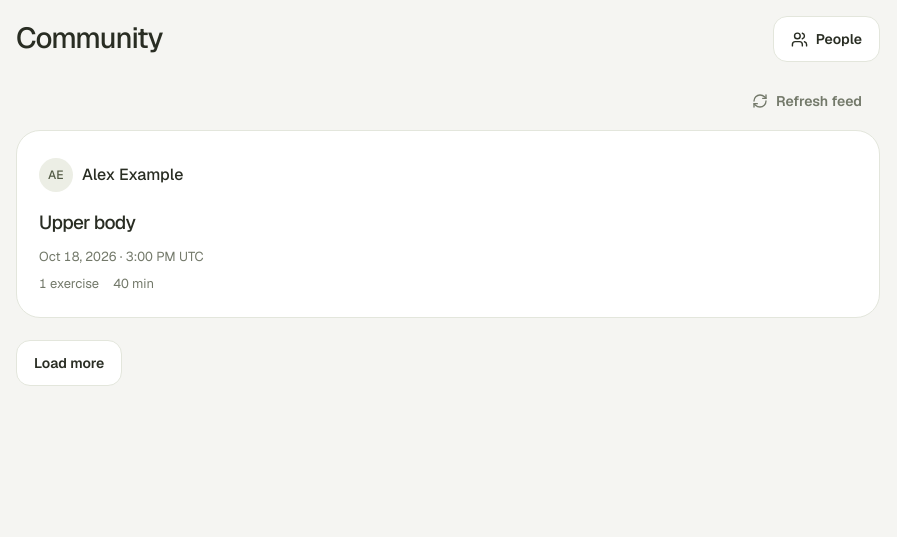
Test case: CommunityScreen › revalidates every loaded feed page when returning from a profile
The width and height of the screenshot is (897, 537).
expect the heading "Upper body" is shown: met, box [39,210,135,235]
Click the button "Load more": (69, 363) [16,340,122,386]
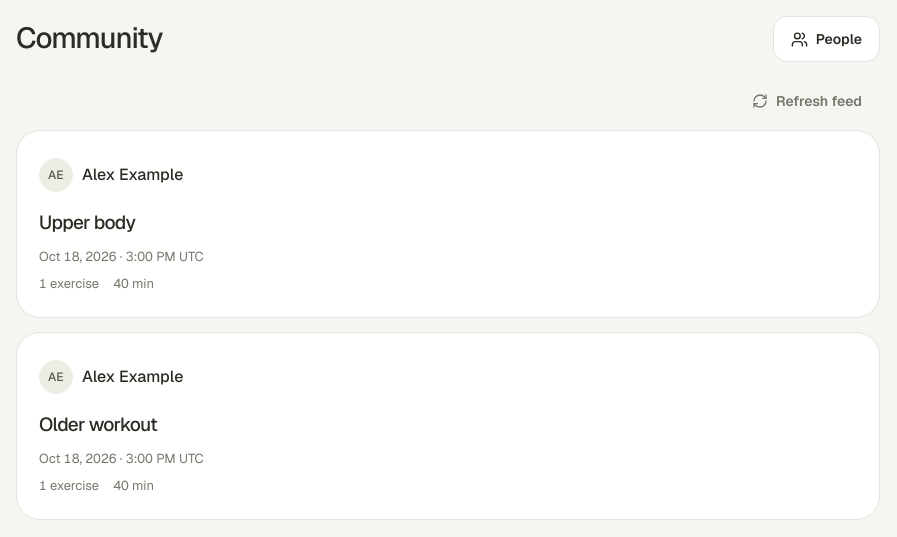
expect the heading "Older workout" is shown: met, box [39,412,157,437]
Click the 1st button "AE Alex Example": (111, 175) [39,153,183,197]
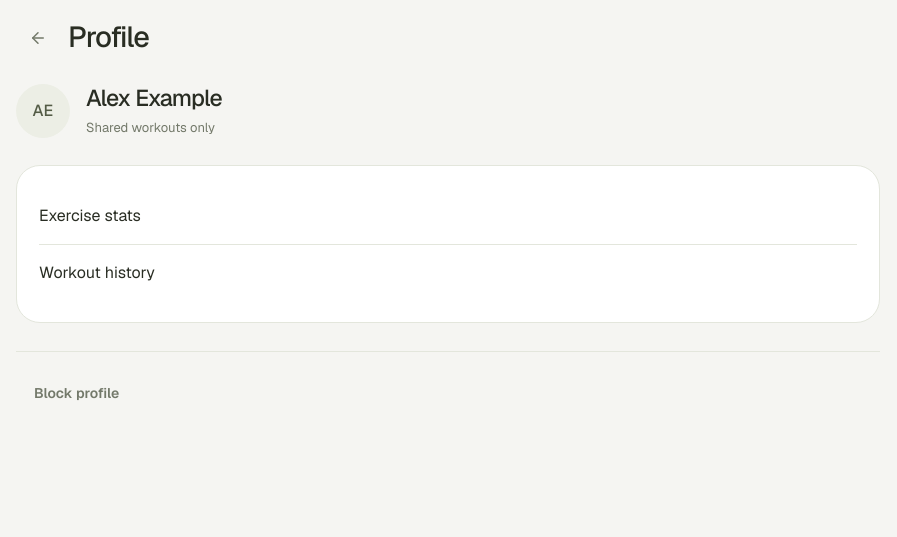
expect the text "Shared workouts only" is shown: met, box [86,118,222,138]
Click the button named "Back to previous view": (38, 38) [16,16,60,60]
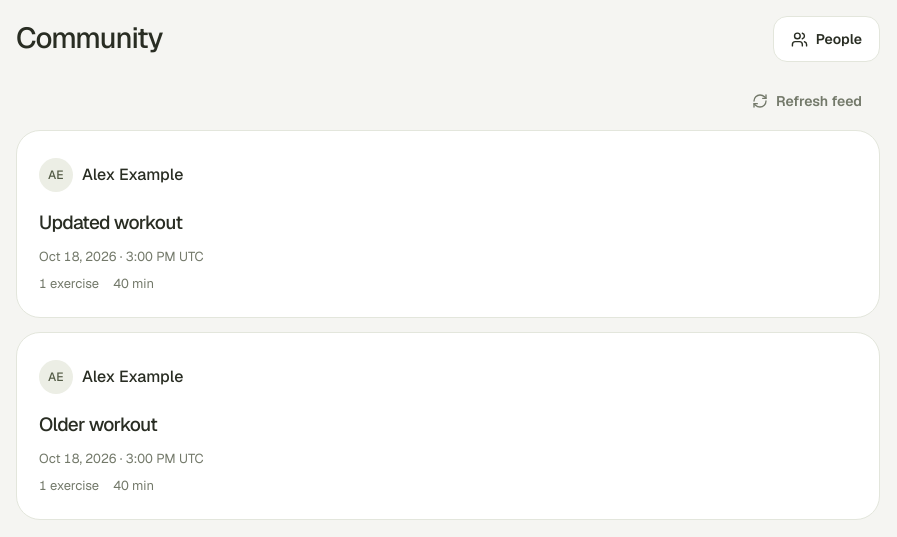
expect the button "Load more" is not shown: met
expect the heading "Updated workout" is shown: met, box [39,210,182,235]
expect the heading "Older workout" is shown: met, box [39,412,157,437]
